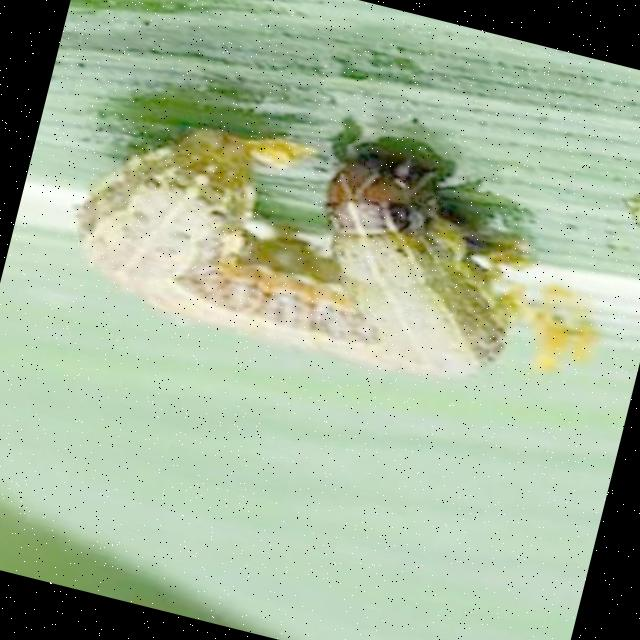worm: (54, 83, 554, 406)
